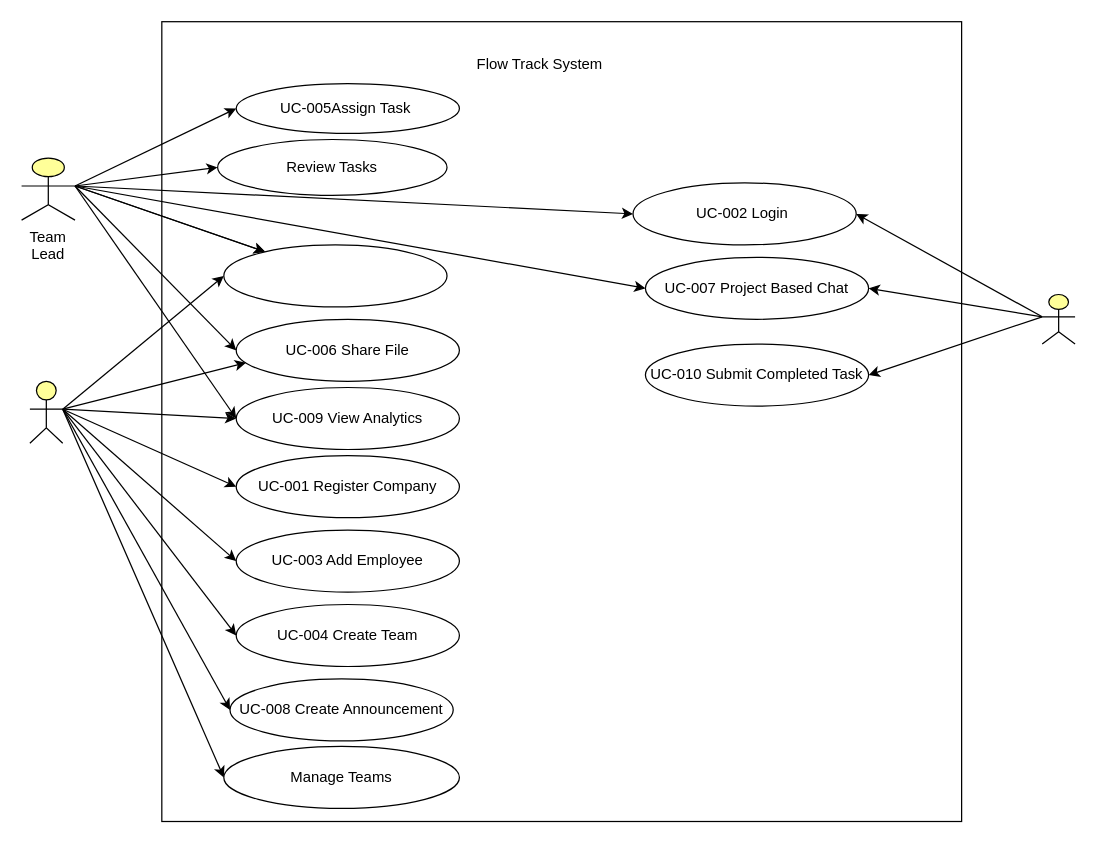
The diagram is 1114 pixels wide and 843 high, and some of its shapes have lost their labels. Here are the shapes that lost their labels. From the top down, the centre of each, then its label:
point 335,275: Create private chat
point 1058,318: Employee
point 46,411: CEO
